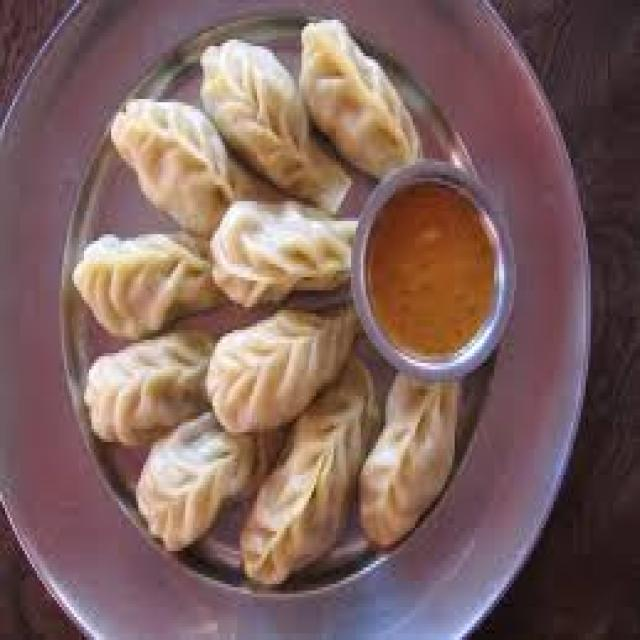Organik: (246, 362, 366, 586), (305, 28, 429, 186), (106, 83, 233, 237), (218, 47, 332, 194), (212, 320, 366, 422), (380, 368, 466, 543), (76, 343, 217, 444), (68, 241, 221, 330), (212, 207, 357, 295), (144, 425, 260, 523)
